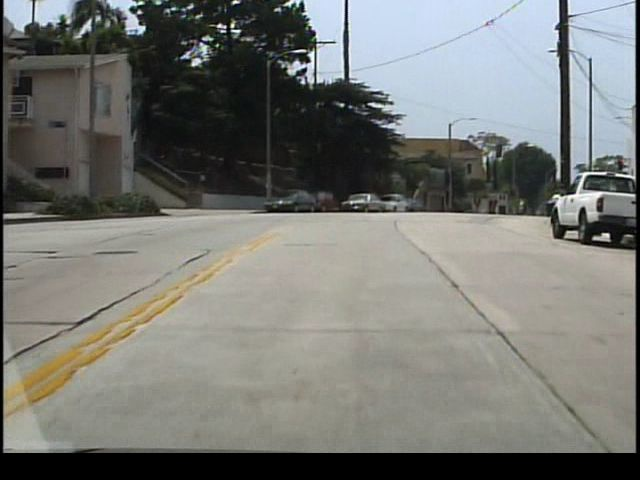person: (517, 196, 527, 217)
